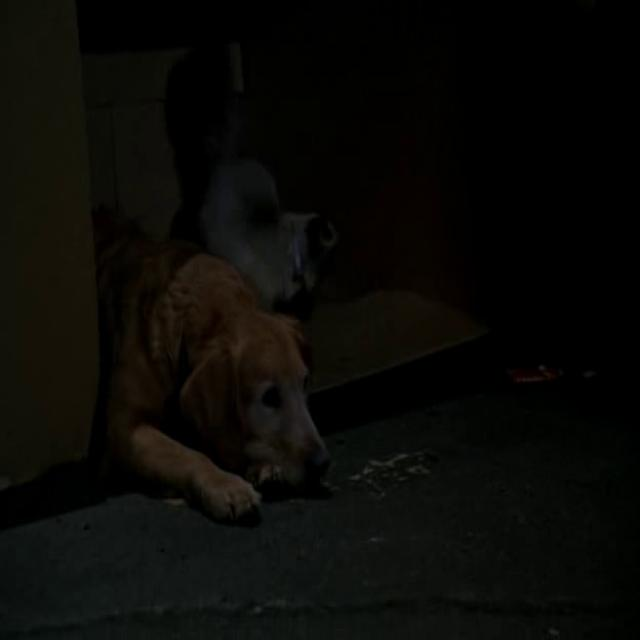Cat: (200, 76, 342, 336)
dog: (87, 185, 327, 535)
